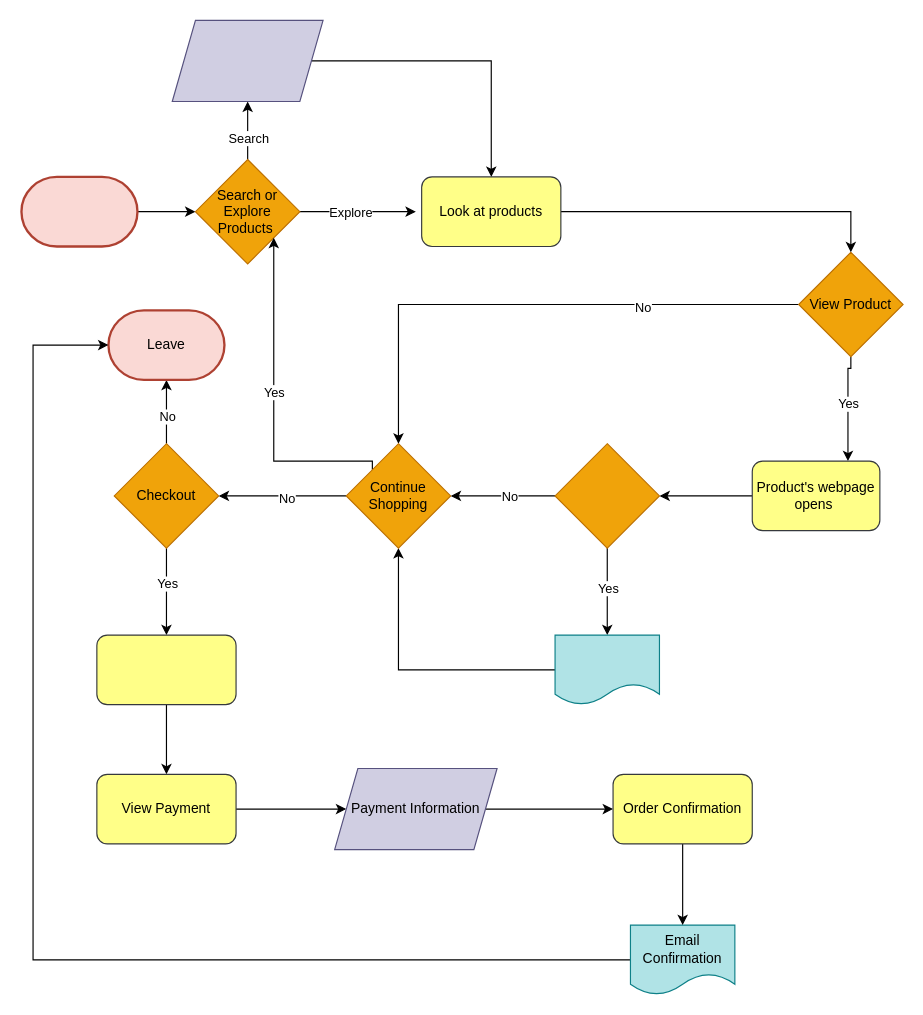
The diagram is 923 pixels wide and 1015 high, and some of its shapes have lost their labels. Here are the shapes that lost their labels. From the top down, the centre of each, then its label:
the point at 247,60: User Search Input
the point at 79,211: Start
the point at 606,495: Add to Cart
the point at 166,669: View Cart
the point at 606,669: Added to Cart Confirmation
